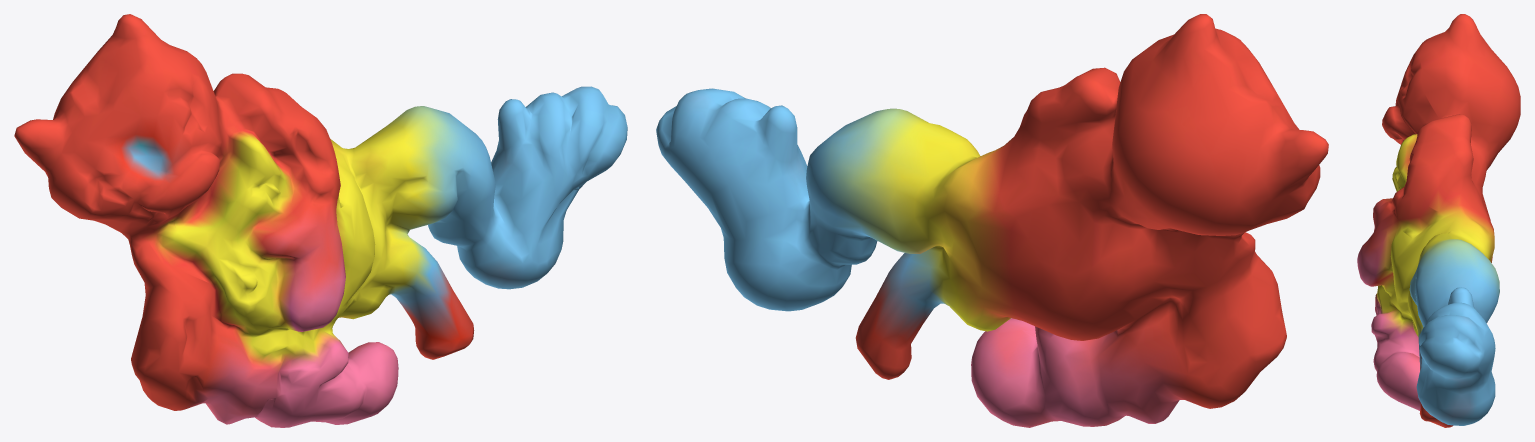
The picture shows the model from 3 angles, left to right: view 1: azimuth 30°, elevation 25°; view 2: azimuth 150°, elevation 25°; view 3: azimuth 270°, elevation 25°; orthographic projection. The views are drawn at different scales.
Parts seen in each view (by area): view 1: Group48983; view 2: Group48983; view 3: Group48983.
Part boxes in pixels (bbox=[...]): Group48983: bbox=[14, 14, 627, 427]; Group48983: bbox=[656, 14, 1328, 427]; Group48983: bbox=[1357, 14, 1520, 427].
Bounding box in the file's own units: 0.022 × 0.0151 × 0.00688.
1 material, 1 textured.
